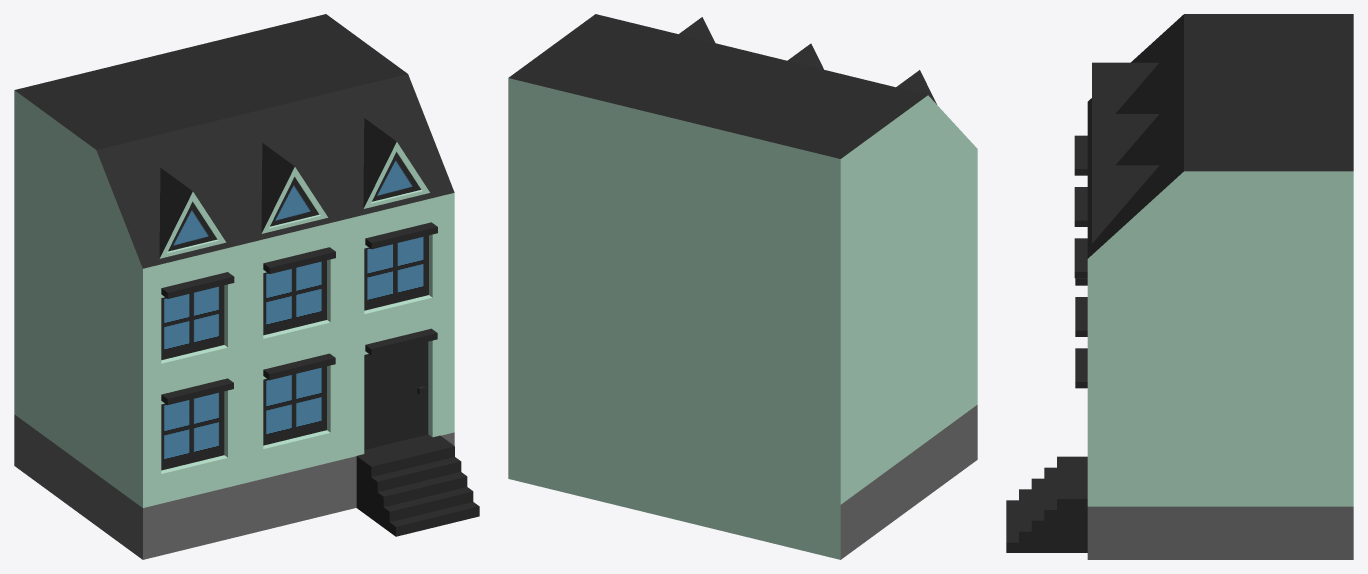
The model's file is NormalTriangleMint.obj.
The picture shows the model from 3 angles, left to right: view 1: azimuth 30°, elevation 25°; view 2: azimuth 150°, elevation 25°; view 3: azimuth 270°, elevation 25°; orthographic projection. The views are drawn at different scales.
Visible parts, largest first — view 1: ZwyklyTrojkatnyMietowy; view 2: ZwyklyTrojkatnyMietowy; view 3: ZwyklyTrojkatnyMietowy.
Boxes of the visible parts, bbox=[...] form: ZwyklyTrojkatnyMietowy: bbox=[14, 14, 479, 559]; ZwyklyTrojkatnyMietowy: bbox=[508, 14, 977, 559]; ZwyklyTrojkatnyMietowy: bbox=[1006, 14, 1353, 559].
Size of the model in its own units: 7 by 8.07 by 6.53.
